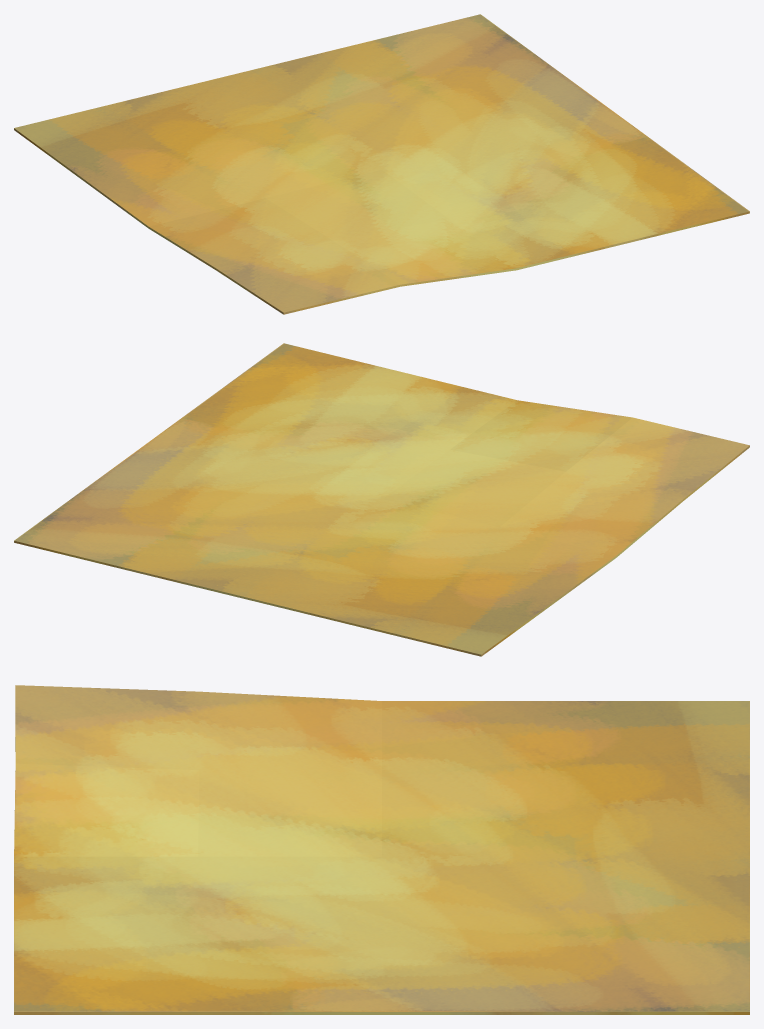
Rendered from LO_post_it.glb.
3 views of the same model, one above another, from view 1: azimuth 30°, elevation 25°; view 2: azimuth 150°, elevation 25°; view 3: azimuth 270°, elevation 25° (orthographic). The views are drawn at different scales.
Parts seen in each view (by area): view 1: Plane; view 2: Plane; view 3: Plane.
Part boxes in pixels (<box>): Plane: <box>14,14,749,314</box>; Plane: <box>14,343,749,656</box>; Plane: <box>14,685,749,1014</box>.
Size of the model in its own units: 0.1099 by 0.00316 by 0.1099.
Materials: 1 (1 with a texture image).
